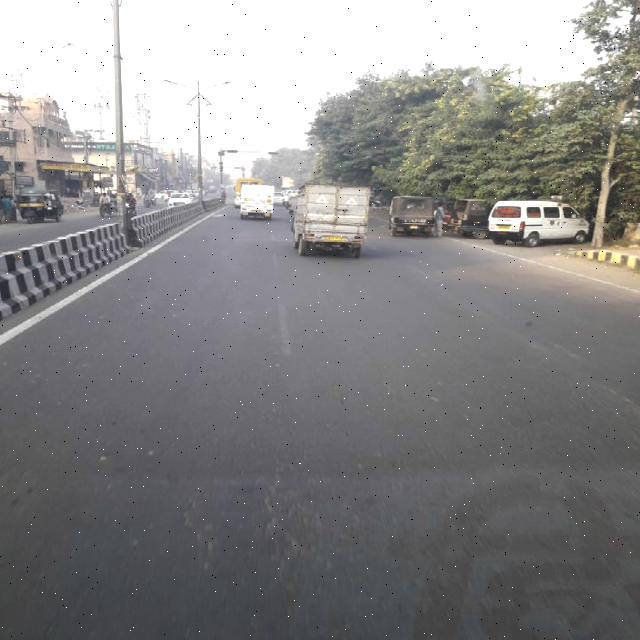D20: (198, 424, 382, 572)
D44: (266, 282, 296, 369)
